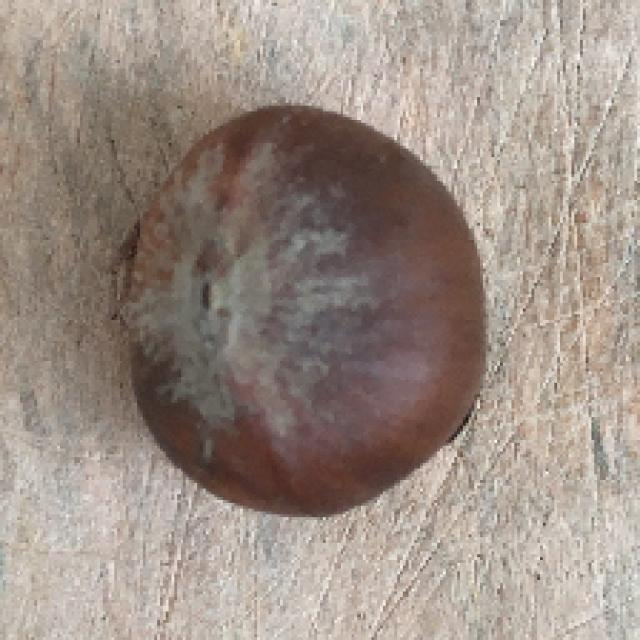damagedHazelnut: (117, 102, 484, 520)
